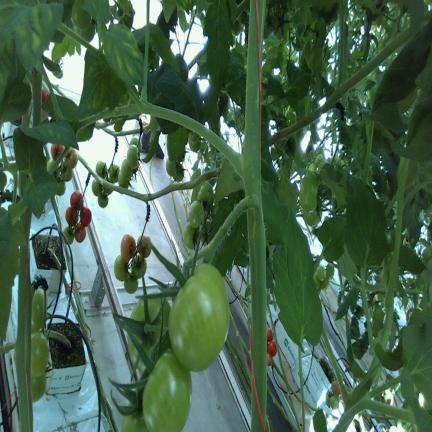6kp_peduncle: (110, 131, 216, 216), (223, 195, 266, 266), (138, 194, 155, 234), (83, 163, 96, 196)
6kp_petiole: (195, 80, 265, 234), (327, 31, 357, 107)
MainStem: (269, 29, 409, 145), (243, 0, 267, 432), (77, 153, 221, 201), (13, 244, 33, 432), (103, 127, 140, 136)
tomato: (169, 263, 229, 371), (142, 349, 192, 431), (128, 298, 170, 374), (31, 332, 49, 378), (300, 172, 318, 212), (71, 0, 91, 29), (31, 289, 44, 332), (121, 411, 148, 431), (271, 9, 288, 40), (120, 234, 136, 262), (188, 200, 204, 228), (31, 373, 46, 401), (75, 22, 95, 42), (197, 182, 213, 206), (183, 222, 196, 249), (114, 255, 127, 281), (132, 254, 146, 278), (301, 209, 320, 226), (137, 235, 151, 257), (64, 148, 78, 169), (124, 274, 138, 293), (65, 206, 78, 226), (47, 158, 59, 179), (121, 158, 132, 180), (127, 145, 138, 167), (51, 143, 64, 160), (80, 206, 91, 226), (70, 190, 82, 208), (60, 163, 72, 181), (75, 223, 86, 242), (63, 225, 74, 244), (96, 160, 107, 178), (108, 164, 119, 182), (333, 155, 346, 170), (166, 158, 176, 177), (175, 161, 184, 182), (91, 179, 101, 196), (118, 170, 128, 187), (130, 136, 142, 149), (188, 131, 199, 145), (316, 266, 326, 281), (422, 247, 432, 262), (268, 340, 277, 356), (98, 194, 108, 208), (329, 395, 339, 409), (56, 181, 65, 196), (332, 380, 341, 395), (232, 20, 241, 35), (189, 140, 200, 152), (326, 263, 334, 279), (313, 274, 321, 289), (320, 277, 329, 289), (315, 154, 323, 166), (267, 326, 272, 342), (325, 391, 330, 407), (267, 353, 273, 365), (308, 163, 316, 172), (317, 287, 321, 293)
